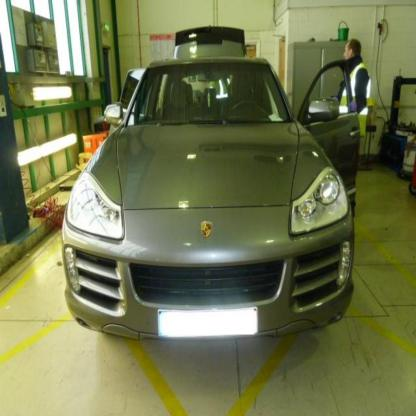Car: (61, 25, 361, 342)
